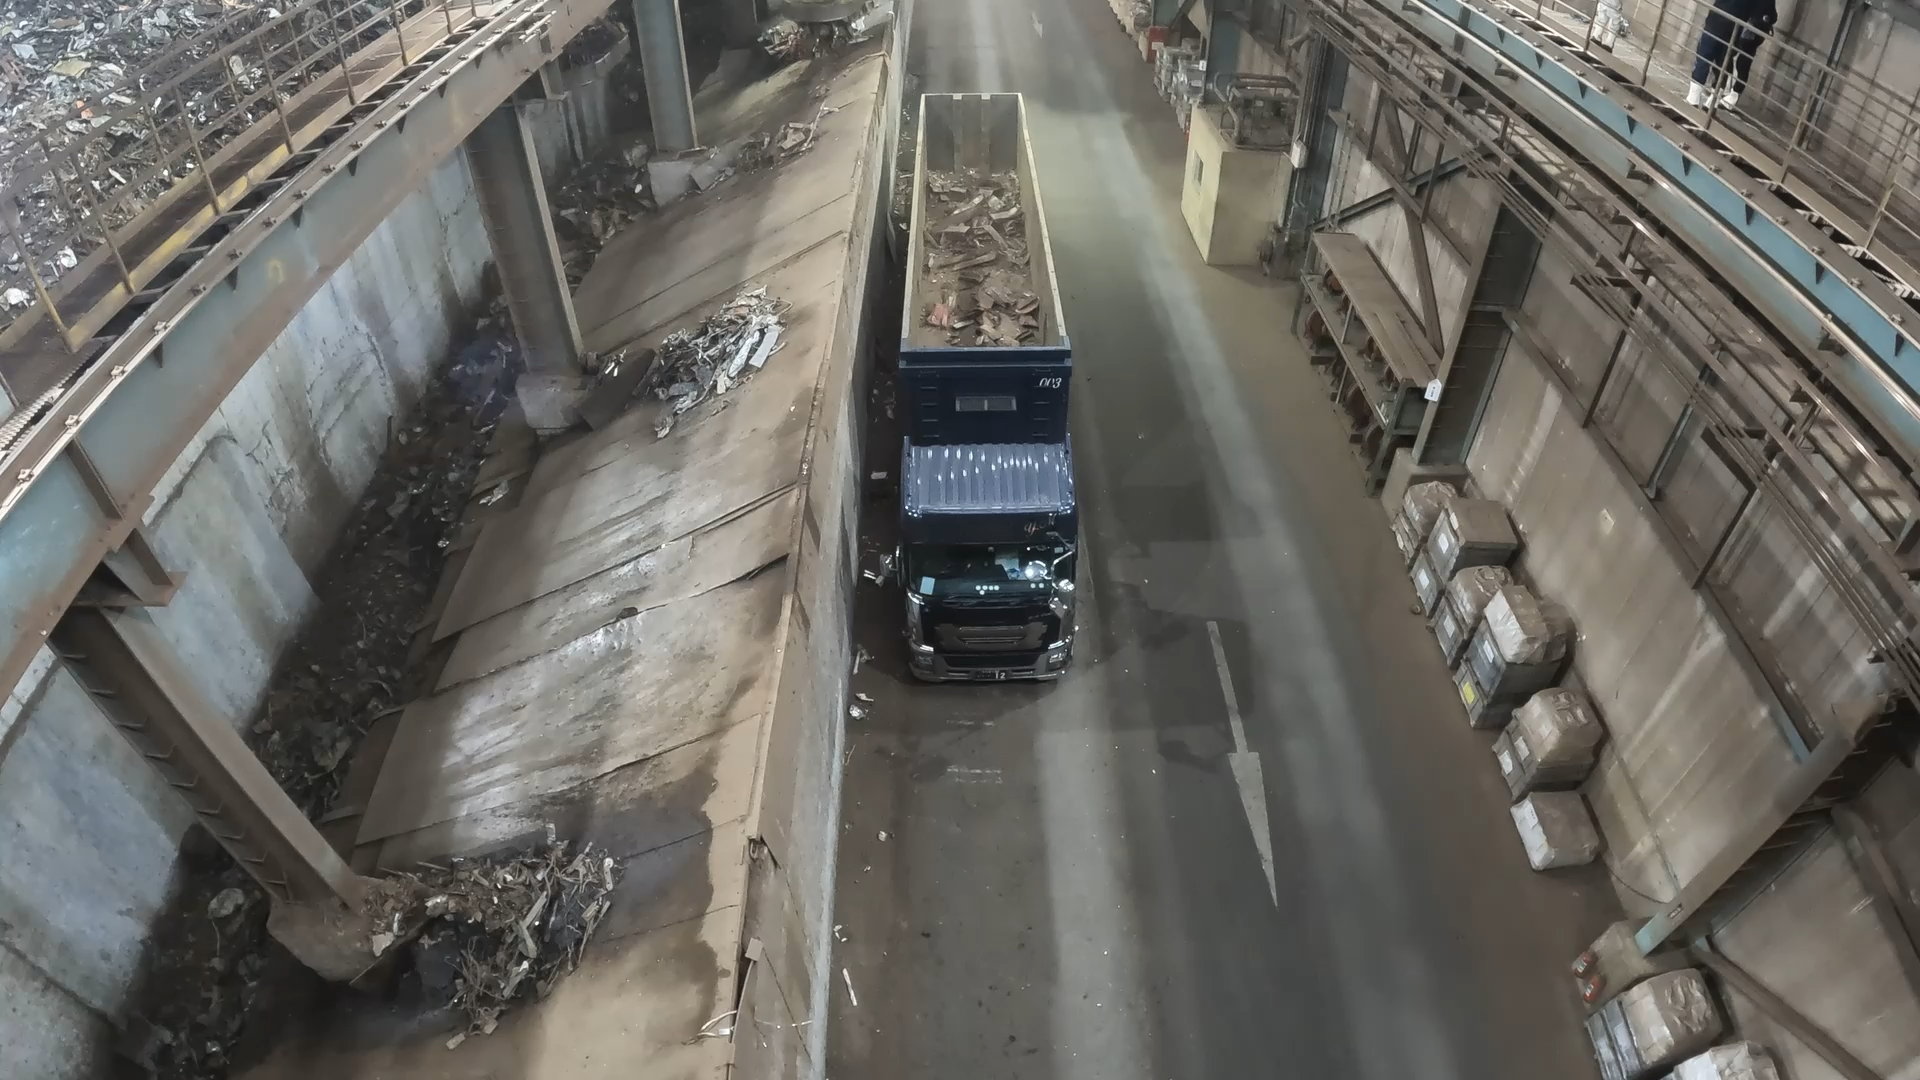truck: (905, 92, 1067, 349)
